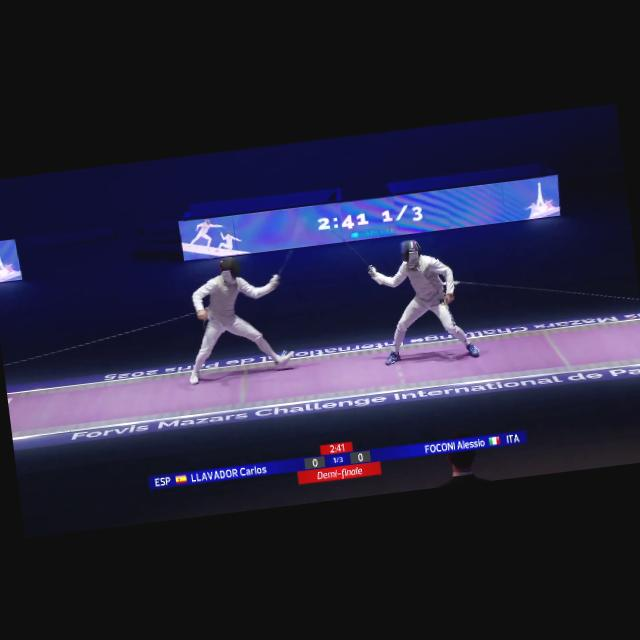blade: (317, 212, 377, 278), (264, 216, 316, 286)
